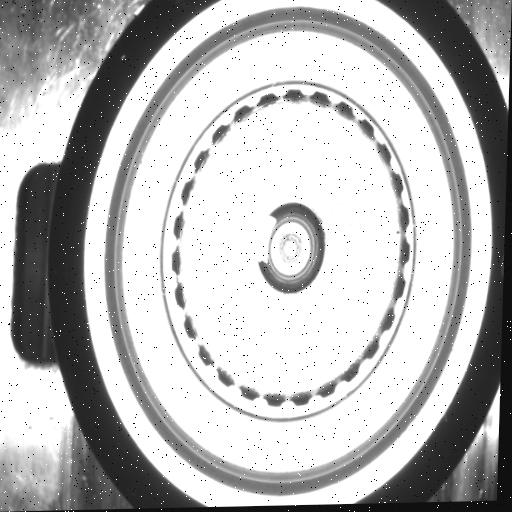gear: (164, 84, 417, 416)
